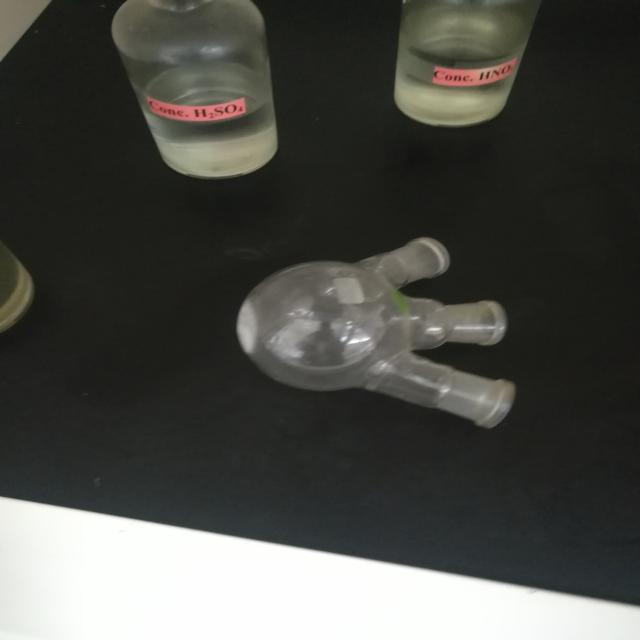Round_Bottom_Flask_Borosilicate_Glass_3_Neck: (202, 208, 556, 468)
